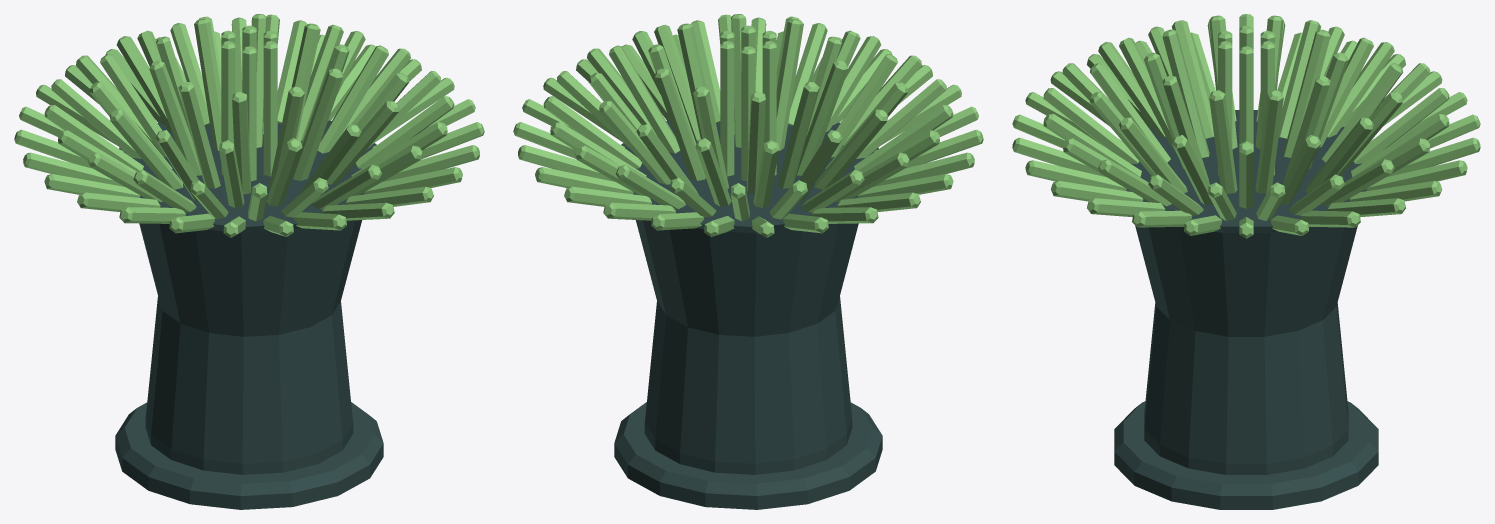
Rendered from sea_anemone.glb.
3 views of the same model, side by side, from view 1: azimuth 30°, elevation 25°; view 2: azimuth 150°, elevation 25°; view 3: azimuth 270°, elevation 25° (orthographic).
Parts seen in each view (by area): view 1: SeaAnemoneBody; view 2: SeaAnemoneBody; view 3: SeaAnemoneBody.
Boxes of the visible parts, x1=… form: SeaAnemoneBody: x1=14, y1=14, x2=484, y2=509; SeaAnemoneBody: x1=513, y1=14, x2=983, y2=509; SeaAnemoneBody: x1=1012, y1=14, x2=1480, y2=509.
Size of the model in its own units: 0.1541 by 0.15 by 0.1529.
